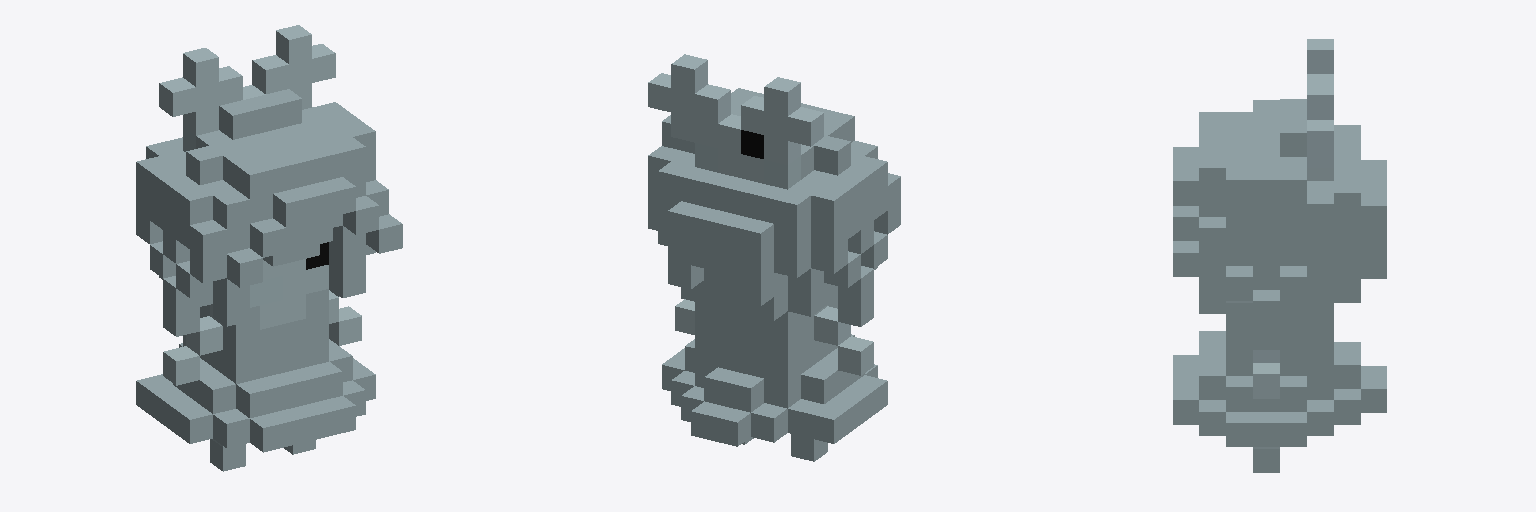
The picture shows the model from 3 angles: view 1: azimuth 30°, elevation 25°; view 2: azimuth 150°, elevation 25°; view 3: azimuth 270°, elevation 25°; orthographic projection.
Visible parts, largest first — view 1: girl1-3; view 2: girl1-3; view 3: girl1-3.
Boxes of the visible parts, box(x1,y1,x2,y2) form: girl1-3: box(136, 25, 402, 471); girl1-3: box(648, 54, 900, 461); girl1-3: box(1173, 39, 1386, 472).
Bounding box in the file's own units: 8 × 16 × 8.
Materials: 1 (1 with a texture image).